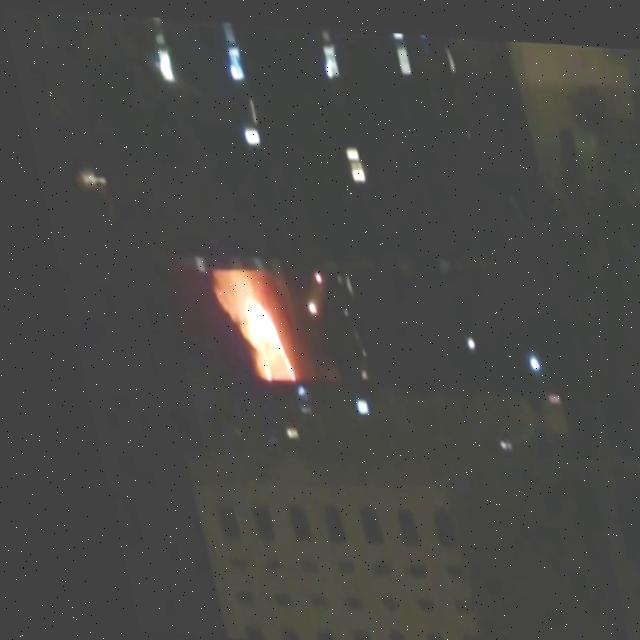Fire: (202, 274, 288, 380)
